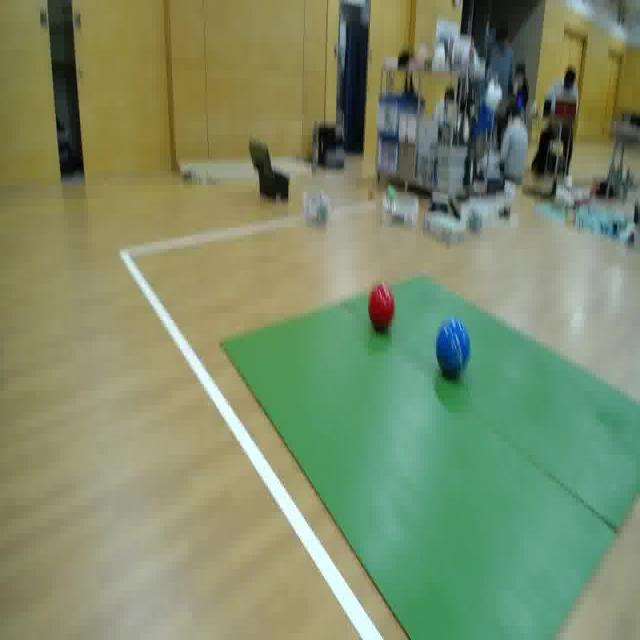blue_ball: (433, 314, 472, 382)
red_ball: (371, 284, 398, 340)
